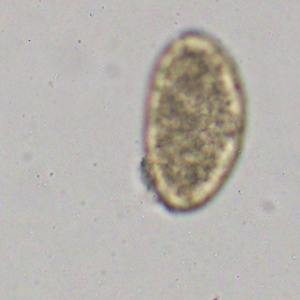Fasciola_hepatica_egg: (141, 28, 249, 217)
